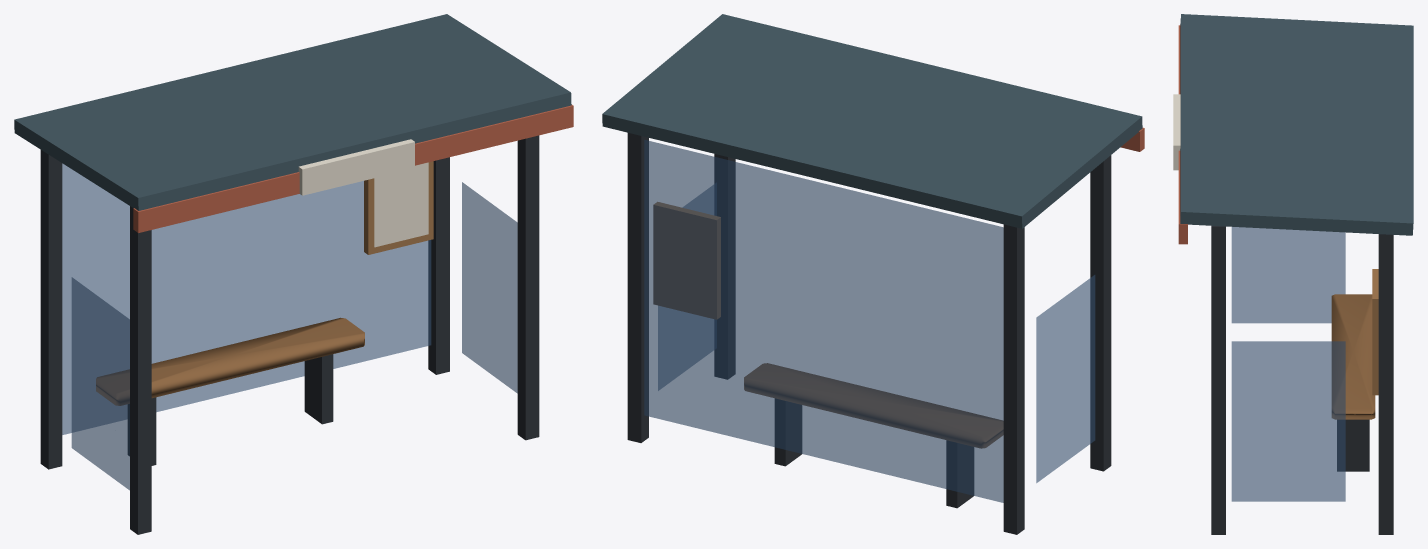
The model's file is bus-shelter.glb.
3 renders of one model, left to right at view 1: azimuth 30°, elevation 25°; view 2: azimuth 150°, elevation 25°; view 3: azimuth 270°, elevation 25°, orthographic. The views are drawn at different scales.
Visible parts, largest first — view 1: Merged_city-glass-surface, Merged_prop-body, Merged_city-metal-dark, Merged_city-timber, Merged_prop-accent, Merged_city-poster-surface, Merged_city-poster, Merged_city-timber-light; view 2: Merged_city-glass-surface, Merged_prop-body, Merged_city-metal-dark, Merged_city-timber, Merged_city-timber-light; view 3: Merged_prop-body, Merged_city-glass-surface, Merged_city-metal-dark, Merged_city-timber, Merged_city-timber-light, Merged_prop-accent, Merged_city-poster.
Boxes of the visible parts, x1,y1,x2,y2 form: Merged_city-glass-surface: (62, 163, 517, 490); Merged_prop-body: (14, 14, 571, 210); Merged_city-metal-dark: (40, 135, 539, 534); Merged_city-timber: (96, 317, 364, 405); Merged_prop-accent: (133, 104, 573, 232); Merged_city-poster-surface: (374, 162, 428, 247); Merged_city-poster: (298, 139, 414, 195); Merged_city-timber-light: (364, 161, 433, 254); Merged_city-glass-surface: (644, 140, 1095, 502); Merged_prop-body: (602, 14, 1142, 228); Merged_city-metal-dark: (627, 132, 1111, 534); Merged_city-timber: (744, 363, 1003, 448); Merged_city-timber-light: (653, 202, 720, 319); Merged_prop-body: (1180, 14, 1413, 235); Merged_city-glass-surface: (1231, 227, 1345, 501); Merged_city-metal-dark: (1211, 225, 1393, 534); Merged_city-timber: (1331, 294, 1375, 419); Merged_city-timber-light: (1372, 269, 1378, 395); Merged_prop-accent: (1178, 25, 1187, 244); Merged_city-poster: (1173, 94, 1180, 170).
Size of what is drawn, in the model's own units: 3.46 by 2.68 by 1.76.
